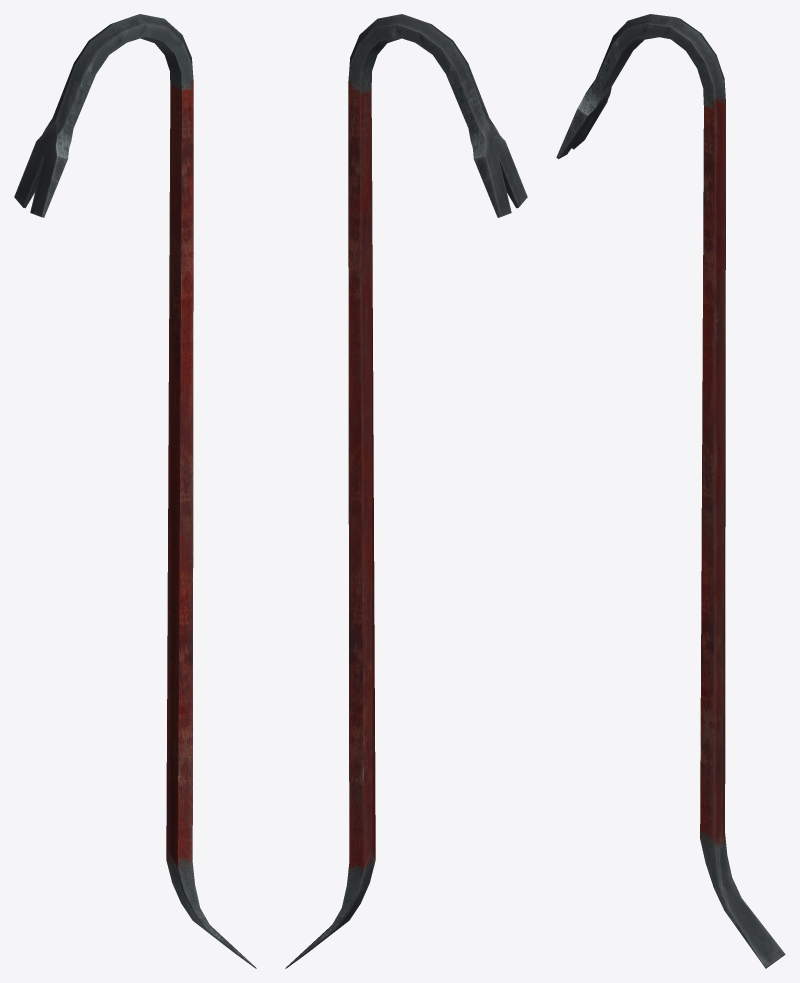
File: crowbar.FBX
The picture shows the model from 3 angles, left to right: view 1: azimuth 30°, elevation 25°; view 2: azimuth 150°, elevation 25°; view 3: azimuth 330°, elevation 25°; orthographic projection. The views are drawn at different scales.
Visible parts, largest first — view 1: crowbar; view 2: crowbar; view 3: crowbar.
Boxes of the visible parts, left/top/right/bottom form: crowbar: left=14, top=14, right=256, bottom=968; crowbar: left=285, top=14, right=527, bottom=968; crowbar: left=556, top=14, right=785, bottom=968.
Bounding box in the file's own units: 200 × 849 × 43.61.
